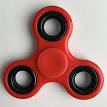fidget_spinner: (0, 2, 106, 100)
